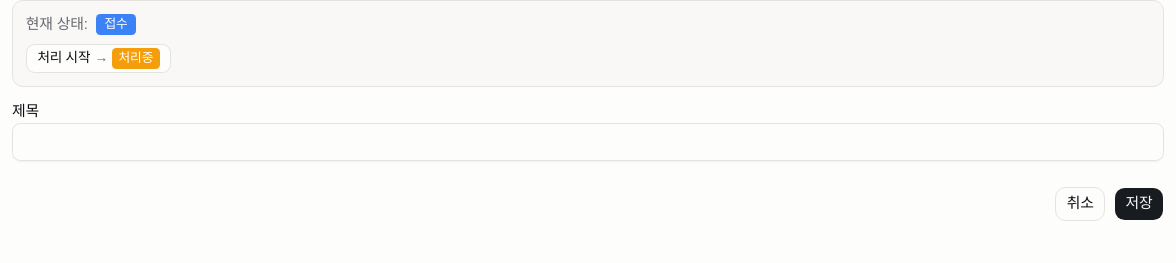
EntryForm › process status transitions › shows status change preview when transition clicked
What coordinates should you click on to do the following:
click the button "처리 시작 → 처리중"
I would click on:
 (98, 58)
Its box is [26, 44, 171, 73].
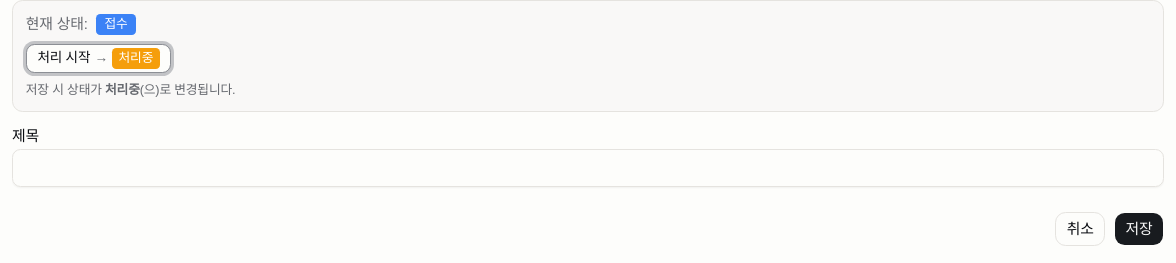
Expected: the text "저장 시 상태가 처리중(으)로 변경됩니다." is shown, [26, 82, 235, 97]
